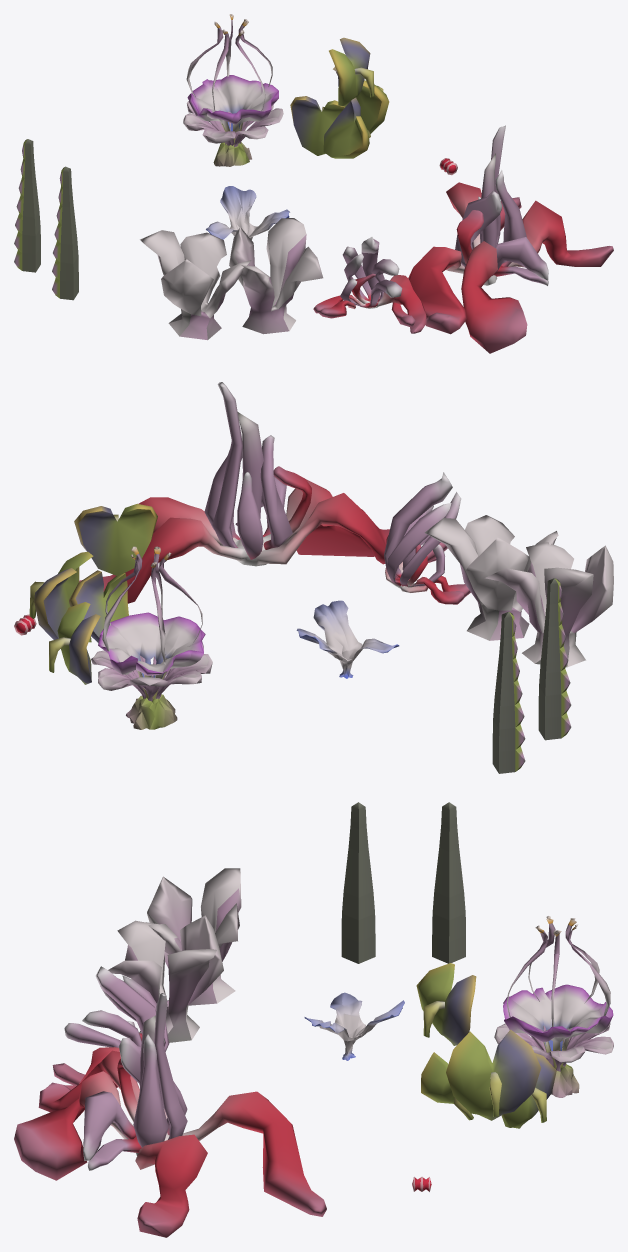
The model's file is brightFlowers_01.gltf.
The picture shows the model from 3 angles, top to bottom: view 1: azimuth 30°, elevation 25°; view 2: azimuth 150°, elevation 25°; view 3: azimuth 270°, elevation 25°; orthographic projection. The views are drawn at different scales.
Visible parts, largest first — view 1: polySurface292, Lotus_Flower_Big_001, pCylinder216, pCylinder215, polySurface513, pCube105, pCube106, polySurface297, polySurface512, pCylinder212, pCylinder217, pCylinder211 (+3 smaller); view 2: polySurface292, Lotus_Flower_Big_001, pCylinder216, pCylinder215, polySurface513, polySurface297, pCylinder212, pCube106, pCube105, bigCurtain_FLower_015, pCylinder210, pCylinder211 (+3 smaller); view 3: polySurface292, Lotus_Flower_Big_001, polySurface513, pCylinder215, pCylinder210, pCylinder216, pCube105, pCube106, polySurface297, pCylinder212, bigCurtain_FLower_015, pCylinder211 (+2 smaller).
Part boxes in pixels (x1,y1,x2,y2): polySurface292: (408, 182, 613, 353); Lotus_Flower_Big_001: (183, 14, 283, 166); pCylinder216: (140, 230, 251, 340); pCylinder215: (229, 218, 323, 334); polySurface513: (455, 125, 548, 285); pCube105: (52, 166, 78, 300); pCube106: (14, 139, 40, 272); polySurface297: (340, 237, 402, 307); polySurface512: (313, 273, 426, 333); pCylinder212: (329, 37, 374, 106); pCylinder217: (323, 97, 370, 158); pCylinder211: (290, 96, 344, 155); polySurface292: (79, 466, 389, 603); Lotus_Flower_Big_001: (91, 546, 212, 729); pCylinder216: (485, 542, 613, 667); pCylinder215: (424, 515, 558, 640); polySurface513: (204, 382, 292, 559); polySurface297: (384, 472, 461, 586); pCylinder212: (74, 503, 157, 575); pCube106: (492, 611, 525, 773); pCube105: (538, 578, 571, 740); bigCurtain_FLower_015: (296, 600, 399, 678); pCylinder210: (29, 551, 93, 639); pCylinder211: (49, 602, 100, 684); polySurface292: (14, 1050, 326, 1237); Lotus_Flower_Big_001: (494, 916, 613, 1097); polySurface513: (83, 993, 187, 1170); pCylinder215: (108, 915, 223, 1042); pCylinder210: (446, 1029, 541, 1120); pCylinder216: (146, 868, 241, 1005); pCube105: (341, 802, 375, 963); pCube106: (432, 802, 465, 963); polySurface297: (64, 966, 169, 1051); pCylinder212: (416, 963, 476, 1045); bigCurtain_FLower_015: (304, 992, 404, 1060); pCylinder211: (501, 1053, 556, 1128).
Bounding box in the file's own units: 108 × 40.15 × 99.18.
1 material, 1 textured.
